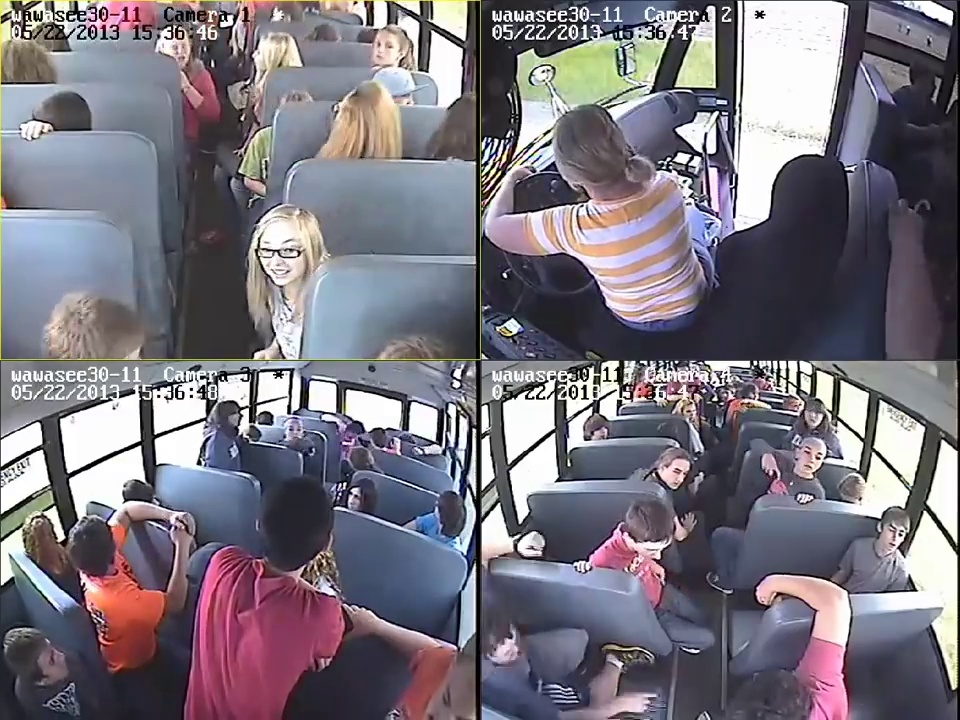face: (257, 230, 301, 285), (29, 645, 77, 682), (371, 32, 403, 65), (634, 533, 669, 561), (795, 442, 826, 473), (884, 520, 906, 551), (163, 42, 193, 63), (343, 490, 372, 511), (670, 458, 689, 489), (804, 407, 823, 426), (288, 420, 302, 441), (683, 403, 697, 423)
